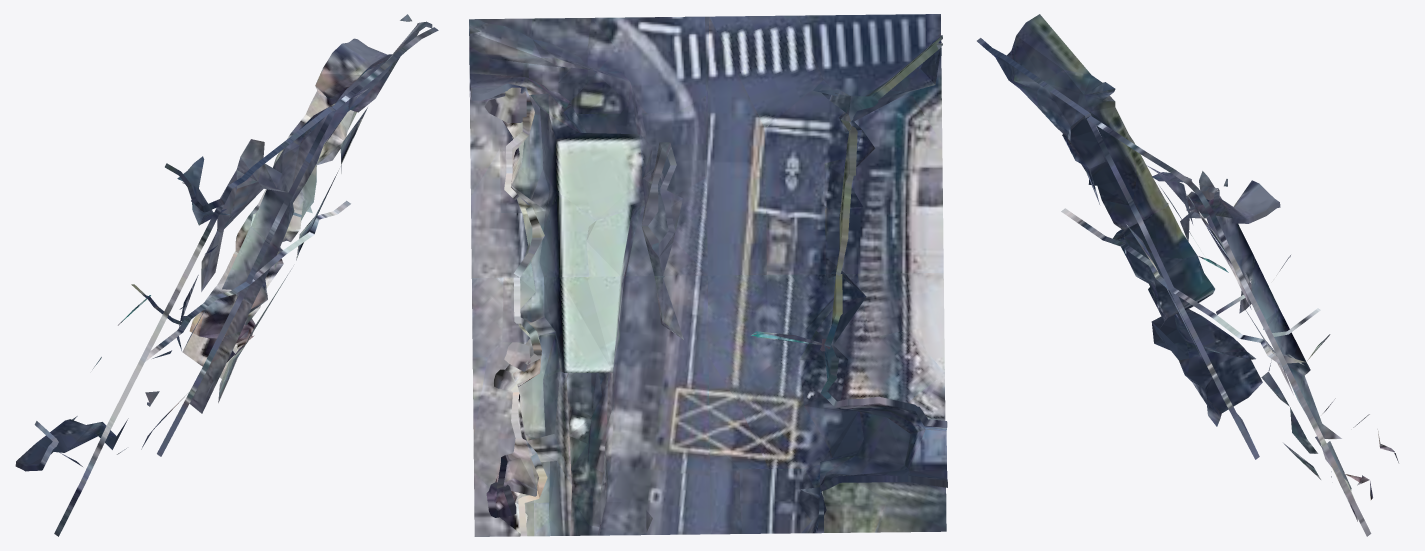
3 renders of one model, left to right at view 1: azimuth 30°, elevation 25°; view 2: azimuth 150°, elevation 25°; view 3: azimuth 270°, elevation 25°, orthographic. The views are drawn at different scales.
Size of the model in its own units: 40.11 by 35.56 by 35.26.
Materials: 2 (2 with a texture image).
